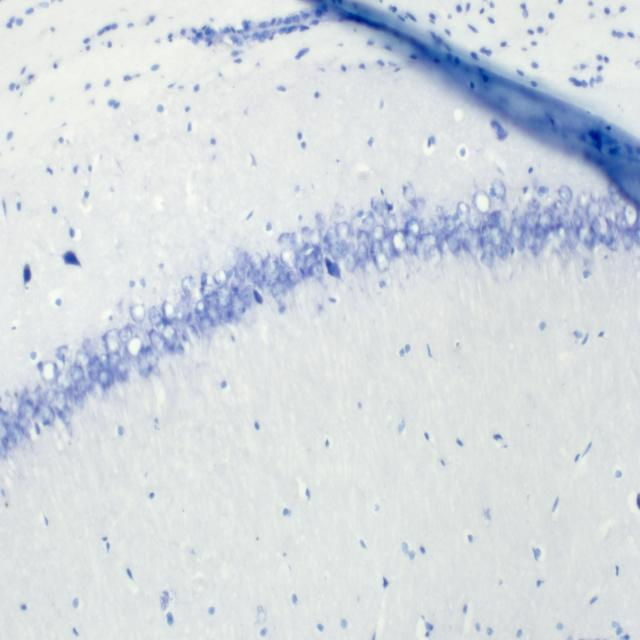neuron: (201, 283, 233, 309), (156, 319, 178, 352), (414, 232, 436, 263), (592, 214, 613, 244), (576, 222, 596, 251), (137, 347, 153, 381), (181, 275, 200, 302), (34, 403, 56, 426), (104, 327, 121, 356), (148, 328, 165, 356), (130, 292, 144, 326), (39, 359, 58, 384), (125, 334, 144, 359), (624, 200, 640, 228), (466, 207, 483, 233), (198, 314, 217, 337), (473, 190, 491, 214), (105, 349, 122, 374), (270, 282, 286, 308), (86, 355, 101, 382), (205, 300, 220, 326), (380, 236, 395, 262), (498, 208, 513, 234), (606, 220, 619, 250), (555, 222, 568, 251), (428, 244, 443, 269), (374, 251, 391, 273), (537, 210, 554, 232), (576, 188, 593, 210), (144, 346, 160, 369), (335, 220, 351, 243), (116, 356, 130, 382), (356, 229, 370, 255), (392, 228, 406, 254), (280, 248, 298, 268), (356, 240, 368, 270), (456, 201, 471, 225), (491, 177, 506, 201), (56, 368, 72, 390), (302, 250, 318, 272), (342, 251, 358, 273), (533, 224, 544, 256), (620, 226, 634, 251), (308, 227, 323, 250), (369, 238, 384, 261), (383, 210, 398, 233), (445, 232, 460, 255), (509, 217, 524, 240), (212, 268, 229, 288), (240, 284, 254, 308), (161, 300, 176, 322), (18, 398, 34, 418), (327, 240, 343, 260), (405, 218, 421, 238), (399, 202, 414, 223), (558, 184, 573, 205), (52, 391, 66, 413), (73, 351, 90, 369), (290, 231, 306, 250), (147, 306, 162, 326), (249, 252, 264, 272), (371, 224, 386, 244), (98, 368, 111, 391), (490, 225, 503, 248), (1, 434, 17, 452), (17, 414, 33, 432), (308, 262, 324, 280), (405, 230, 418, 252), (266, 260, 280, 280), (326, 225, 339, 246), (371, 196, 384, 217), (528, 195, 541, 216), (55, 345, 72, 361), (553, 200, 569, 217), (557, 213, 573, 230), (193, 298, 208, 316), (586, 200, 601, 218), (62, 404, 74, 426), (277, 264, 289, 286), (480, 222, 492, 244), (614, 210, 626, 232), (403, 184, 416, 204), (444, 214, 457, 234), (480, 251, 496, 267), (70, 365, 84, 383), (118, 327, 132, 345), (524, 209, 536, 230), (74, 377, 89, 393), (285, 270, 298, 288), (277, 232, 291, 248), (238, 251, 249, 271), (73, 392, 85, 410), (498, 245, 508, 262)
